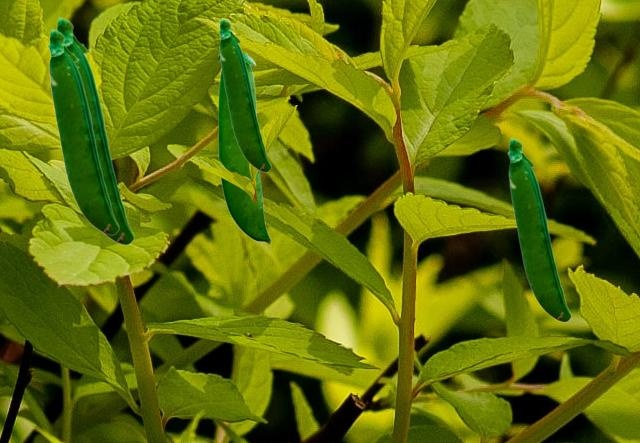pea: (56, 16, 133, 244), (47, 28, 118, 234), (507, 137, 570, 321), (218, 53, 270, 245), (218, 18, 270, 171)
